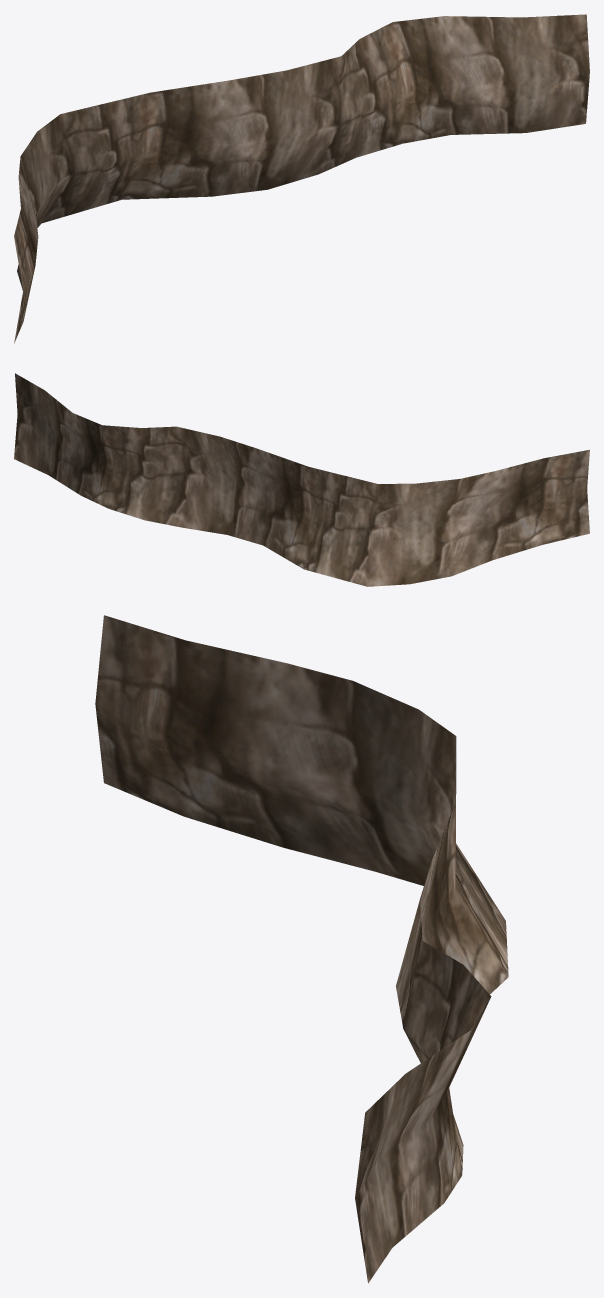
The model's file is EKH_ENTRANCE_PS_EN_WALL383736.fbx.
3 views of the same model, one above another, from view 1: azimuth 30°, elevation 25°; view 2: azimuth 150°, elevation 25°; view 3: azimuth 270°, elevation 25° (orthographic). The views are drawn at different scales.
Visible parts, largest first — view 1: EKH_ENTRANCE_PS_EN_WALL383736; view 2: EKH_ENTRANCE_PS_EN_WALL383736; view 3: EKH_ENTRANCE_PS_EN_WALL383736.
Part boxes in pixels (x1,y1,x2,y2): EKH_ENTRANCE_PS_EN_WALL383736: [14, 14, 589, 343]; EKH_ENTRANCE_PS_EN_WALL383736: [14, 373, 589, 586]; EKH_ENTRANCE_PS_EN_WALL383736: [95, 615, 508, 1283].
Bounding box in the file's own units: 117739 × 20756 × 41320.
1 material, 1 textured.
